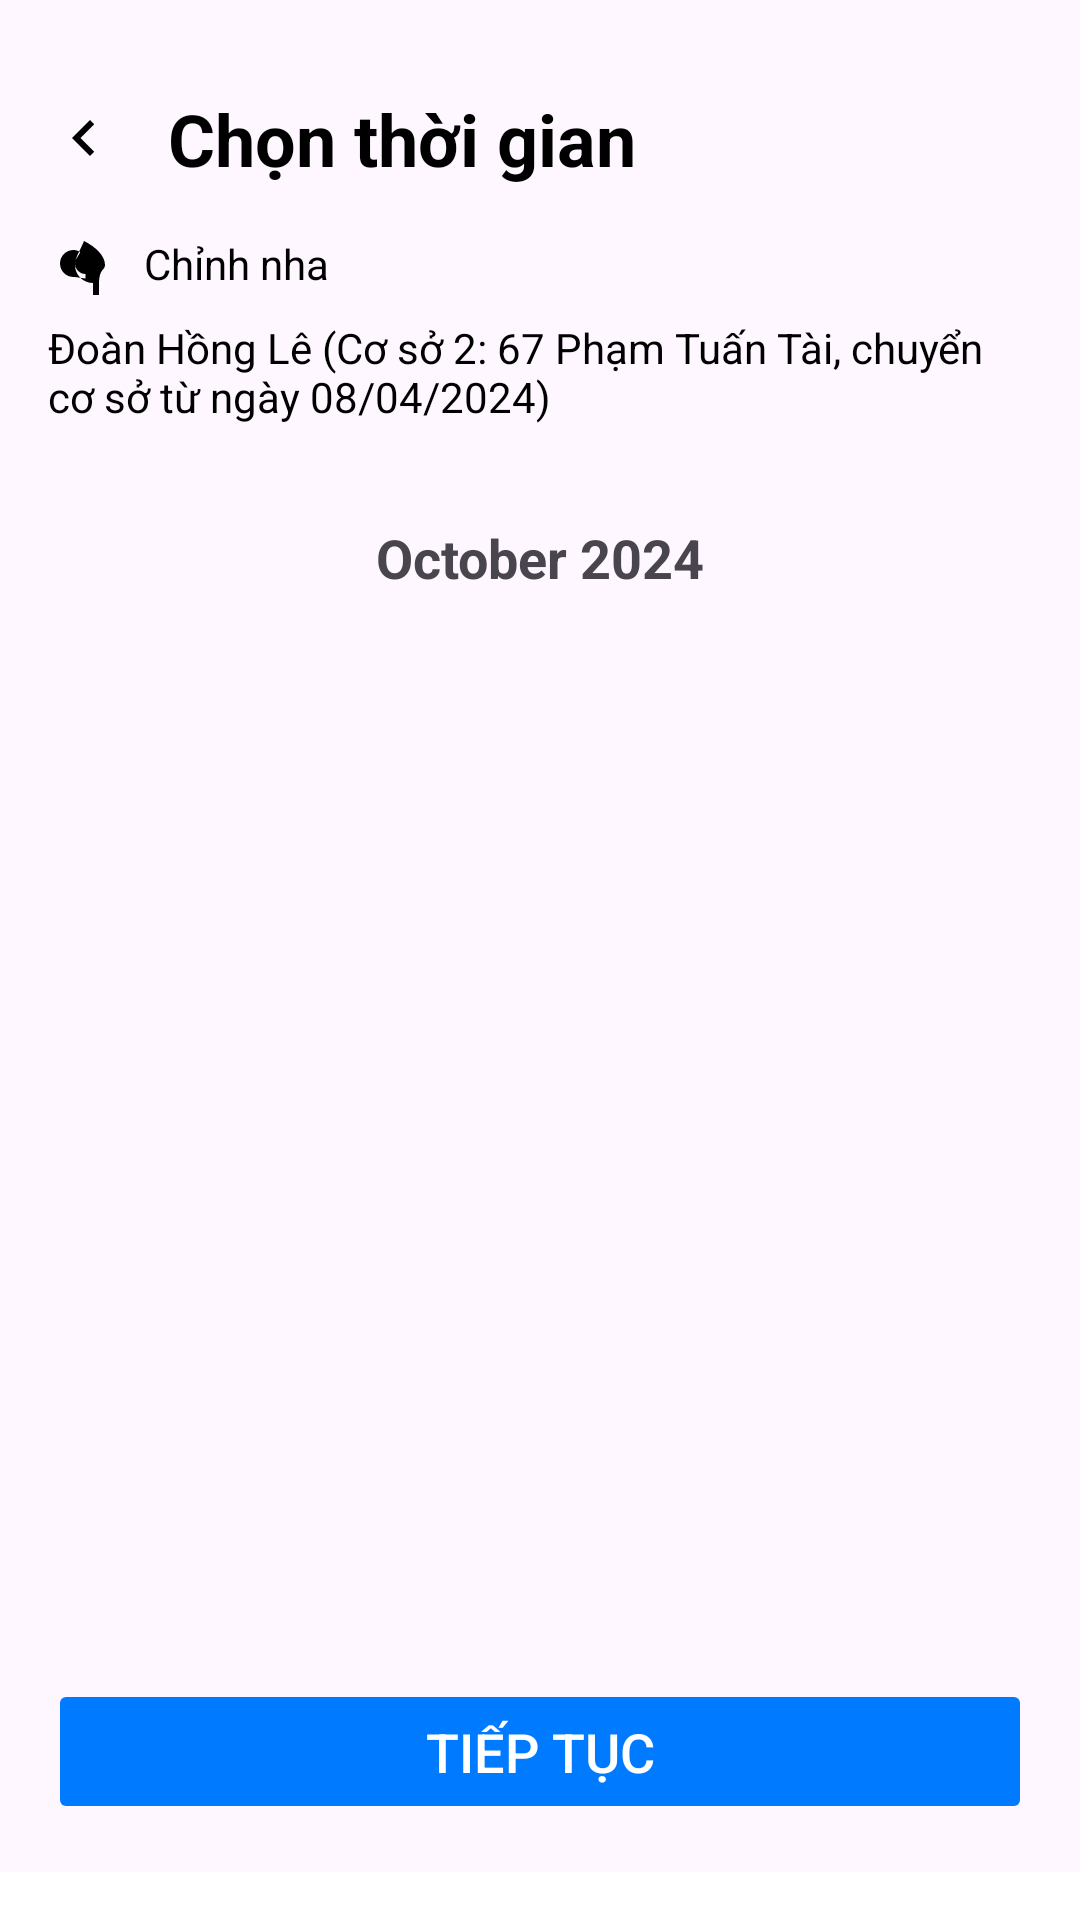

Icon click points for this 1080 x 1920 phone screenshot, format (x=x, y=y):
Quay lại: (x=83, y=138)
